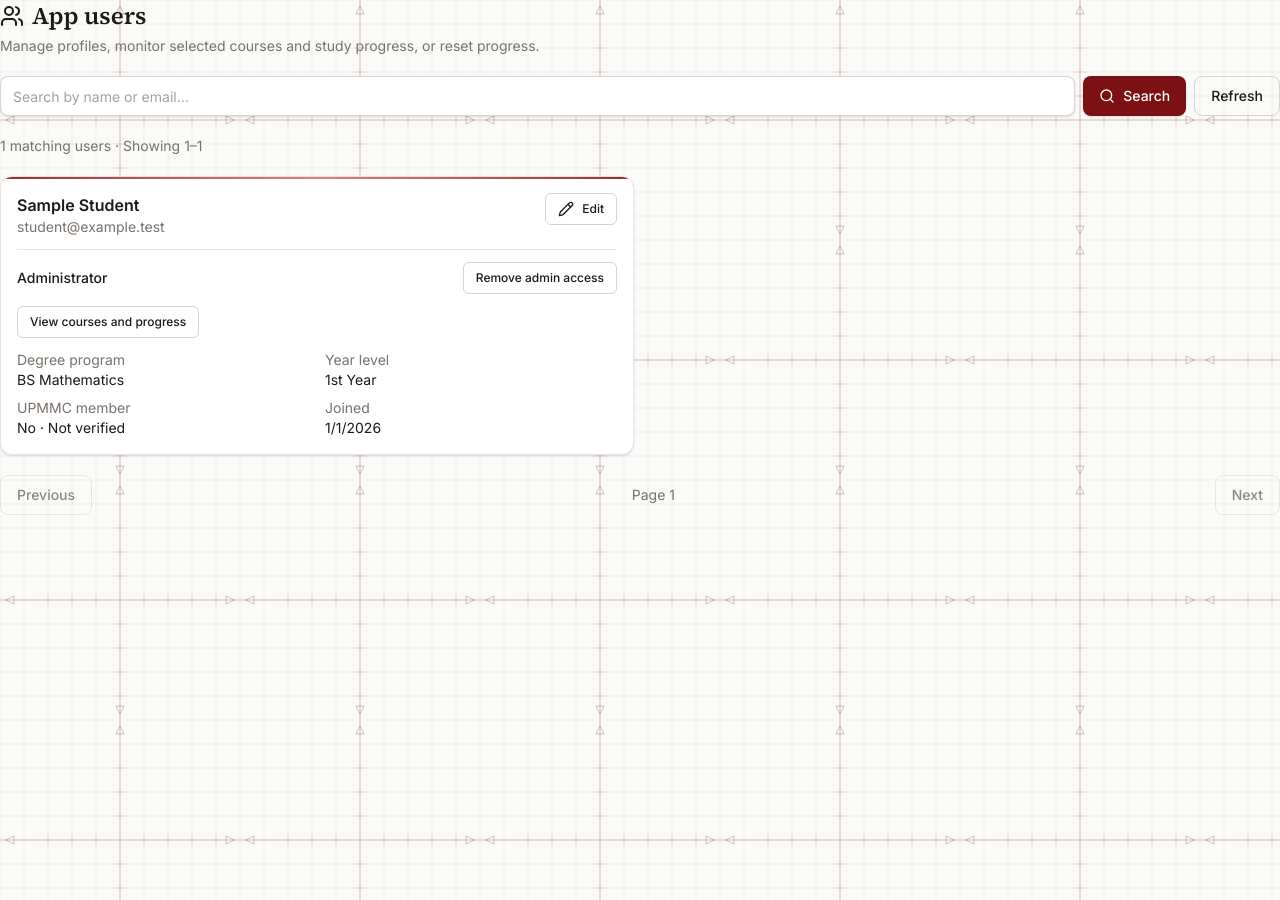
Test case: admin users › shows failed removals without claiming success
This screenshot has width=1280, height=900.
Click the button "Remove admin access".
click(540, 278)  # box [463,262,617,294]
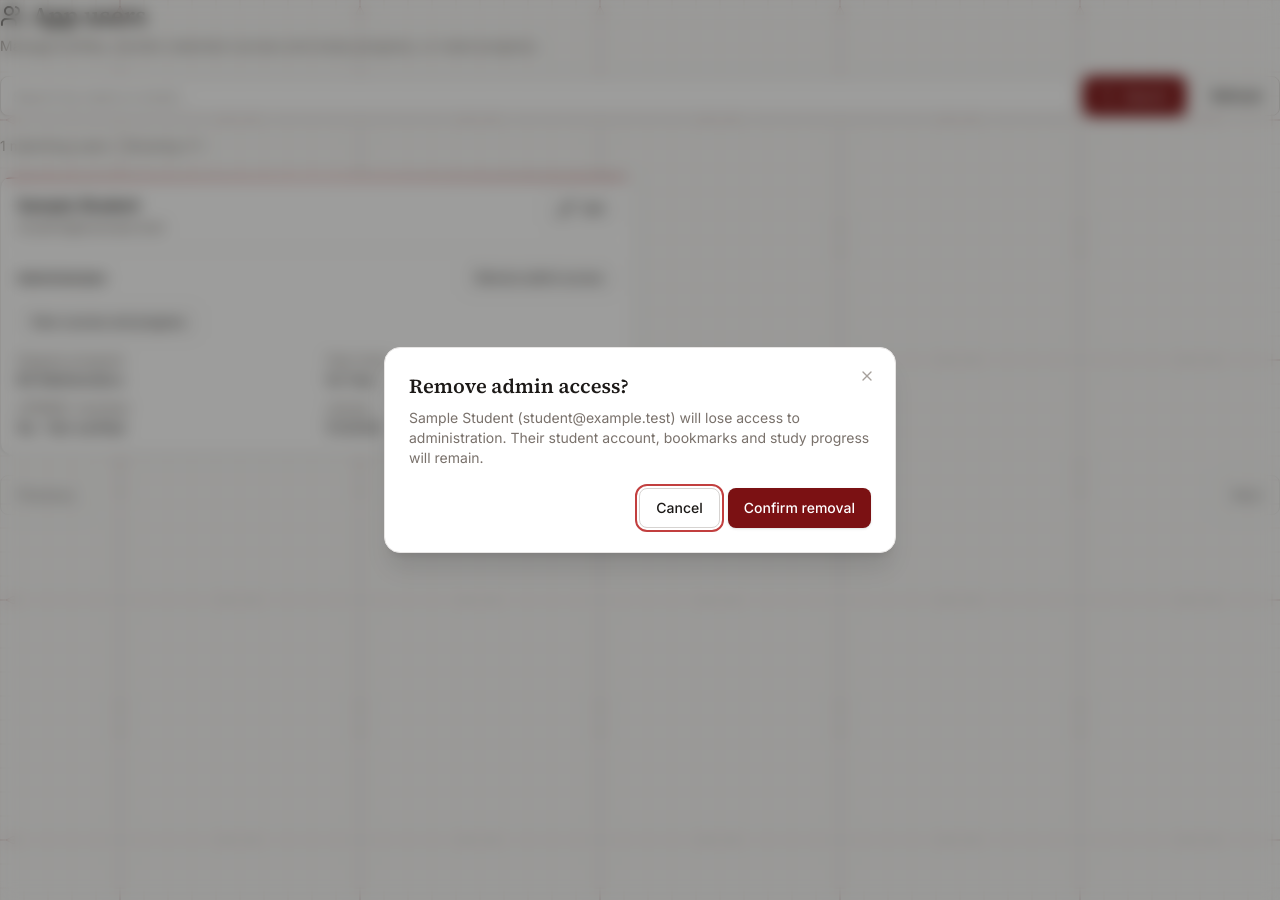
Click the button "Confirm removal".
click(799, 508)  # box [728,488,871,528]
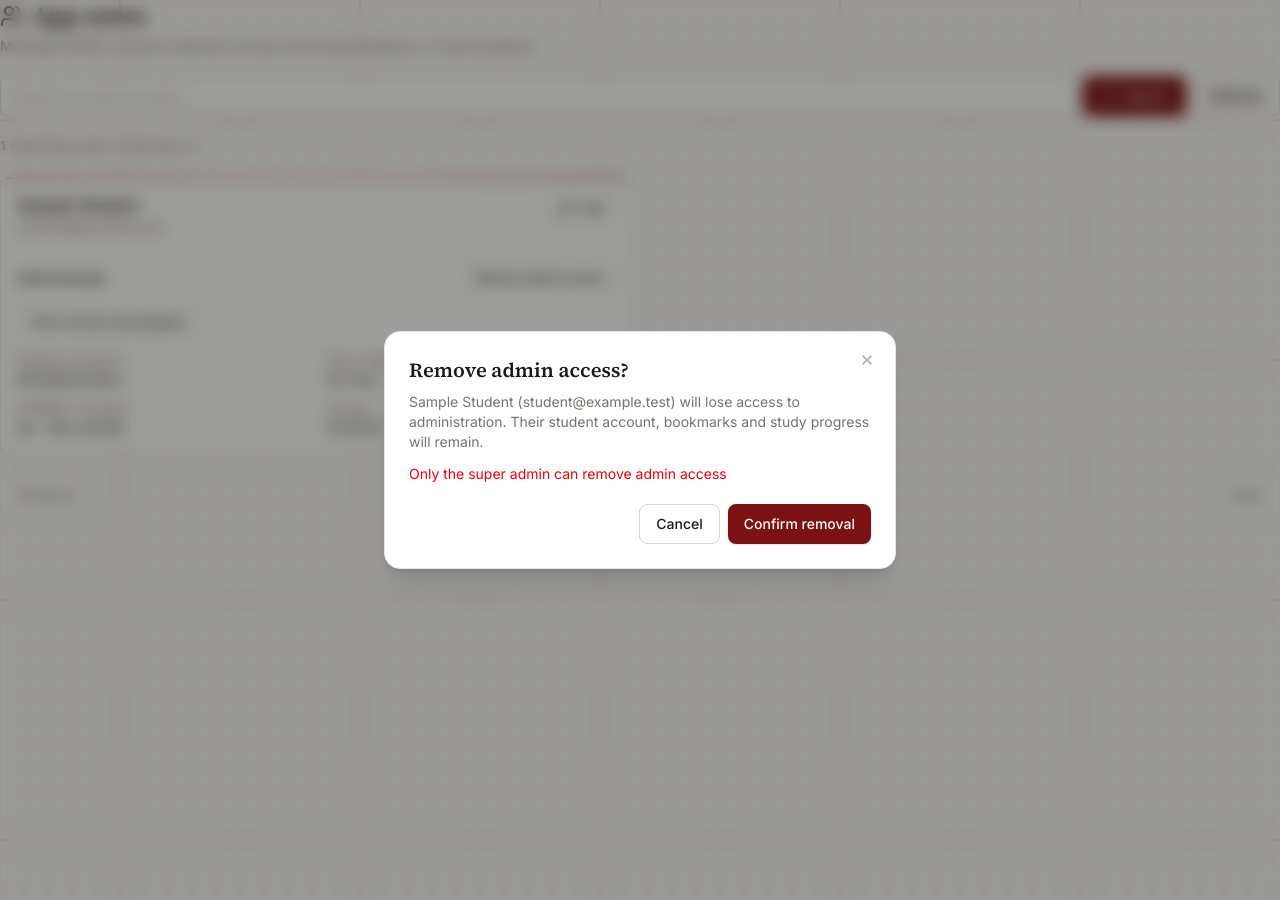
Check: the dialog is shown, box [384,331,896,569]
Check: the message shows "Only the super admin", box [409,465,727,482]
